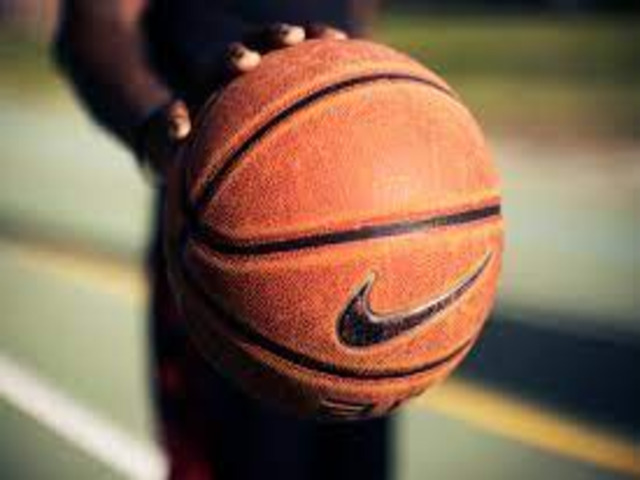Bola: (155, 33, 519, 437)
